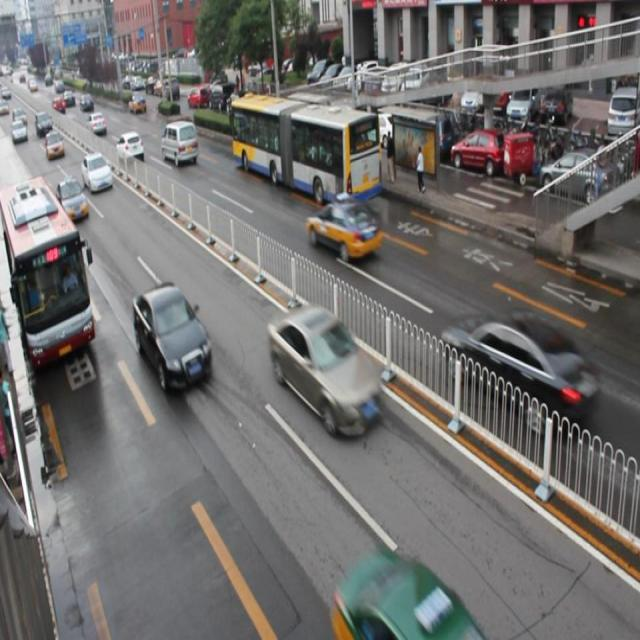car: (441, 314, 597, 435), (267, 302, 382, 439), (132, 281, 211, 392), (305, 194, 380, 263), (56, 174, 89, 222), (82, 151, 113, 192), (116, 132, 144, 161)
truck: (160, 119, 198, 165)
van: (228, 89, 381, 206), (1, 178, 94, 364)
